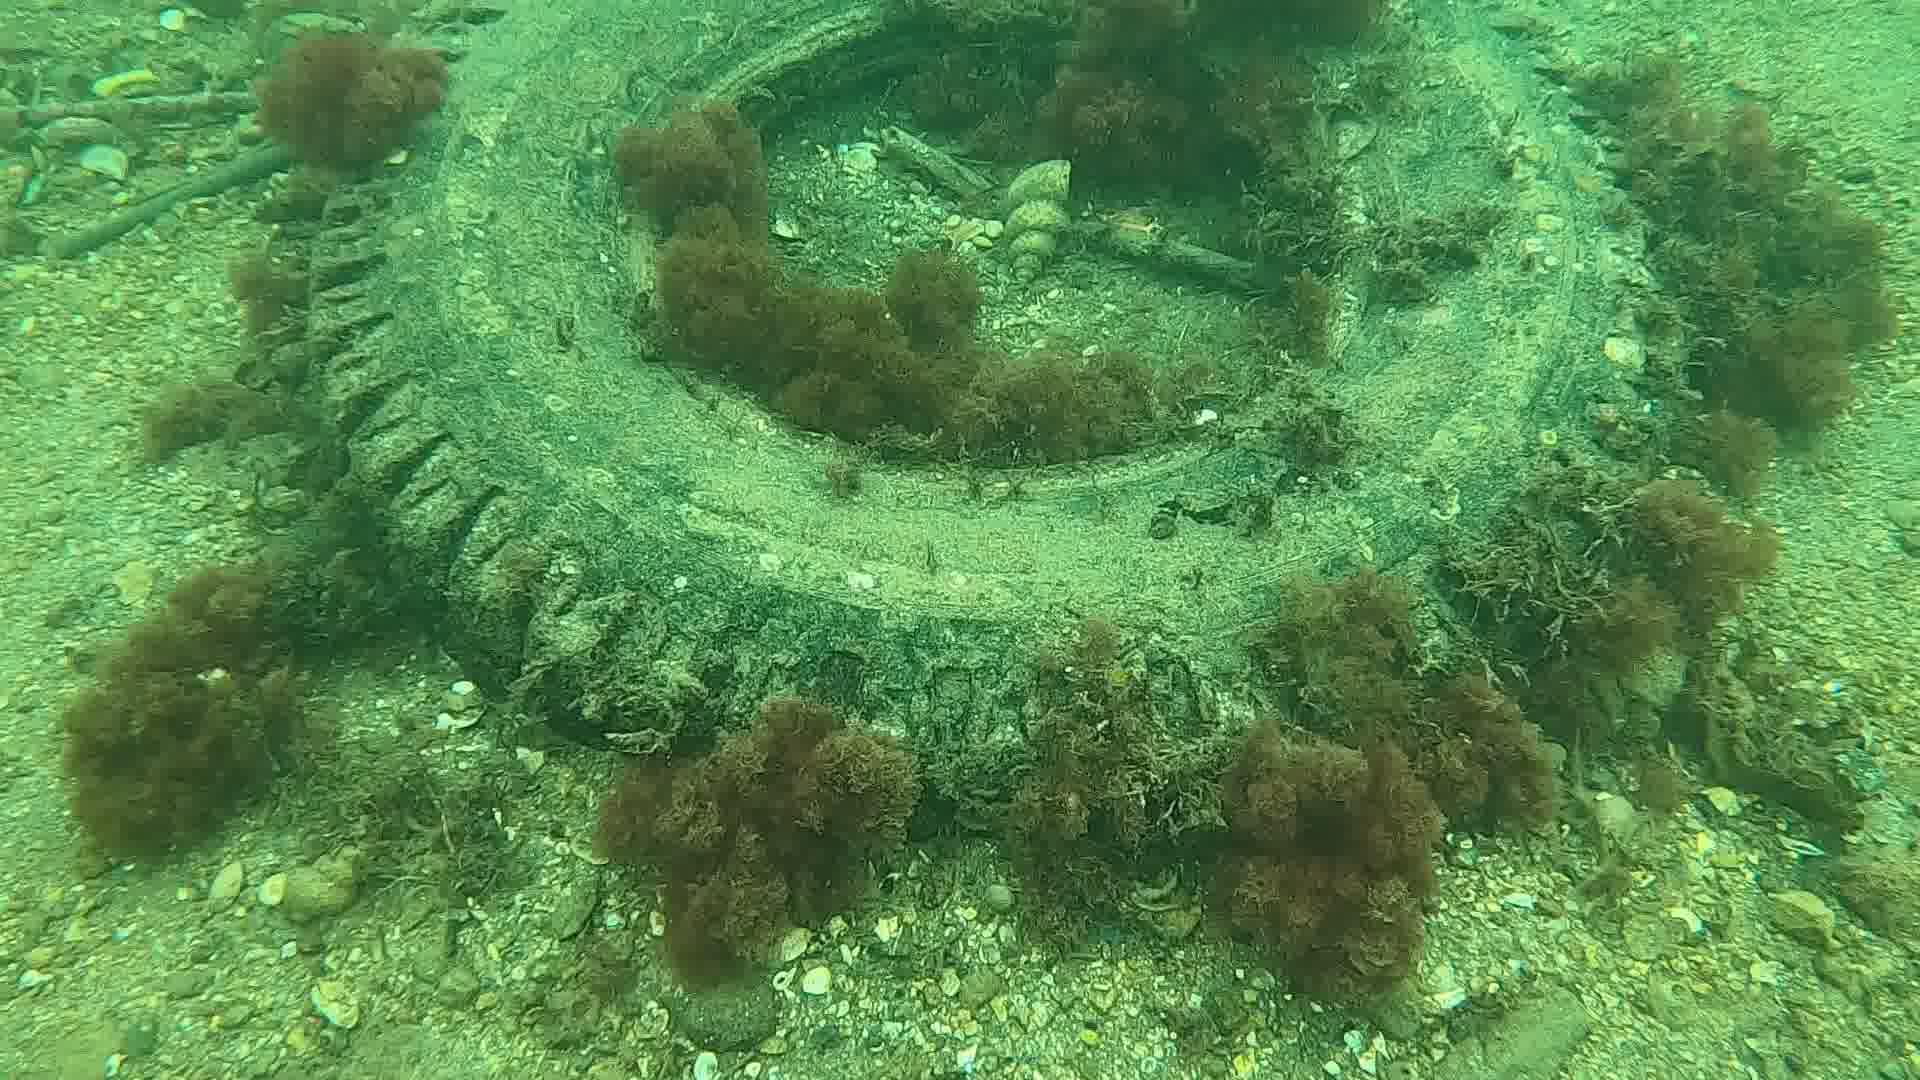tire: (313, 0, 1684, 841)
